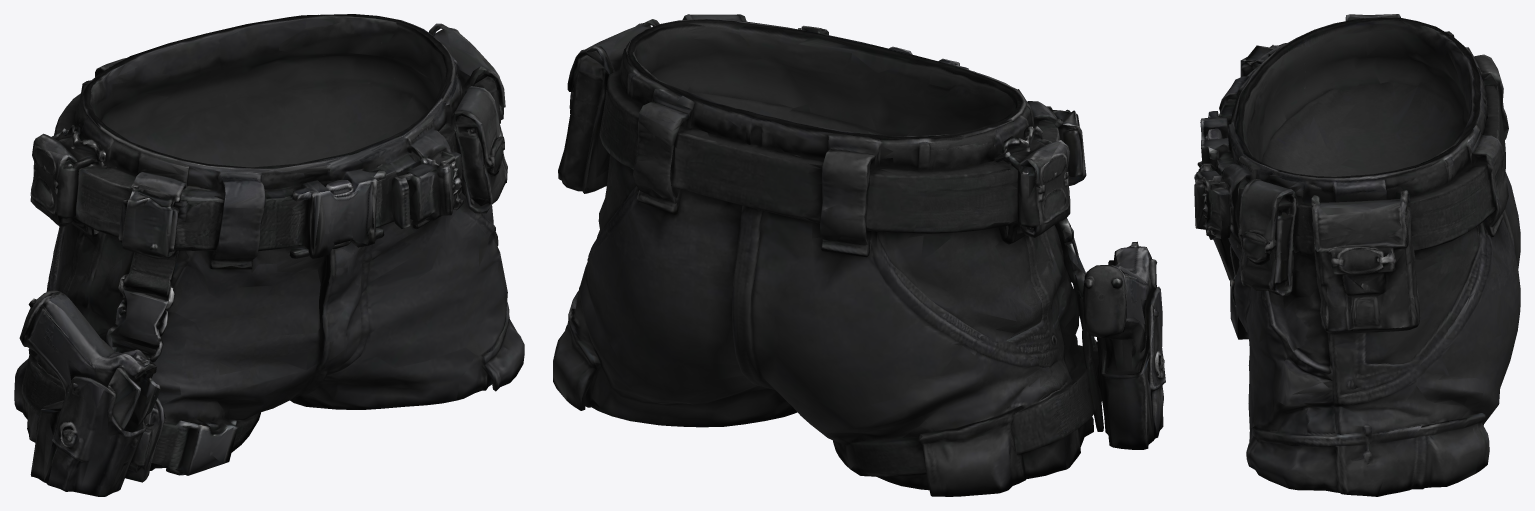
File: p_pelvis.fbx
The picture shows the model from 3 angles, left to right: view 1: azimuth 30°, elevation 25°; view 2: azimuth 150°, elevation 25°; view 3: azimuth 270°, elevation 25°; orthographic projection. The views are drawn at different scales.
Parts seen in each view (by area): view 1: Part; view 2: Part; view 3: Part.
Part boxes in pixels (box(x1,y1,x2,y2)): Part: box(14, 14, 524, 496); Part: box(553, 14, 1165, 496); Part: box(1194, 14, 1520, 496).
Bounding box in the file's own units: 0.4393 × 0.26 × 0.2597.
